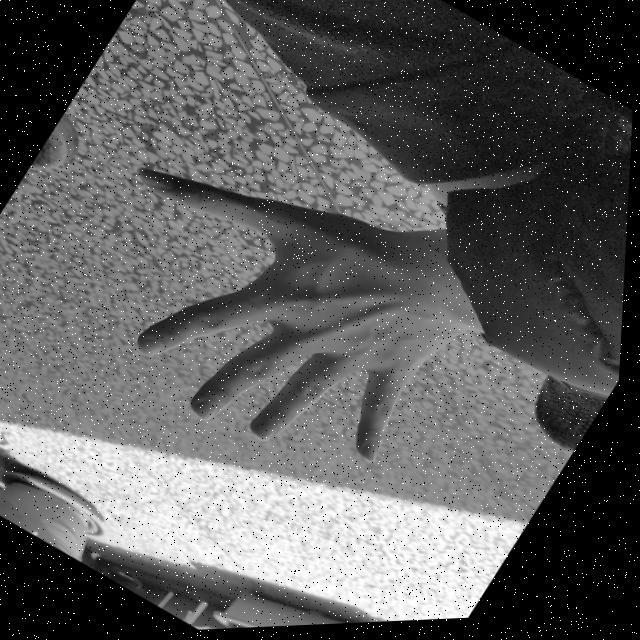no-gloves: (169, 306, 574, 634)
